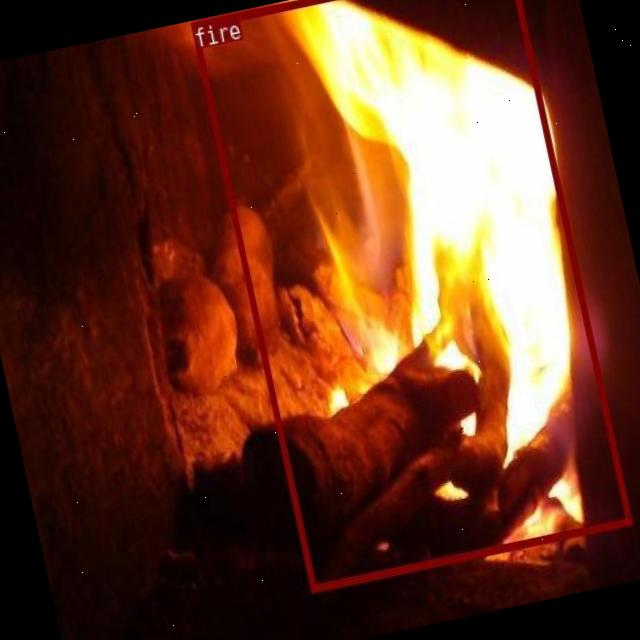fire: (189, 0, 631, 589)
